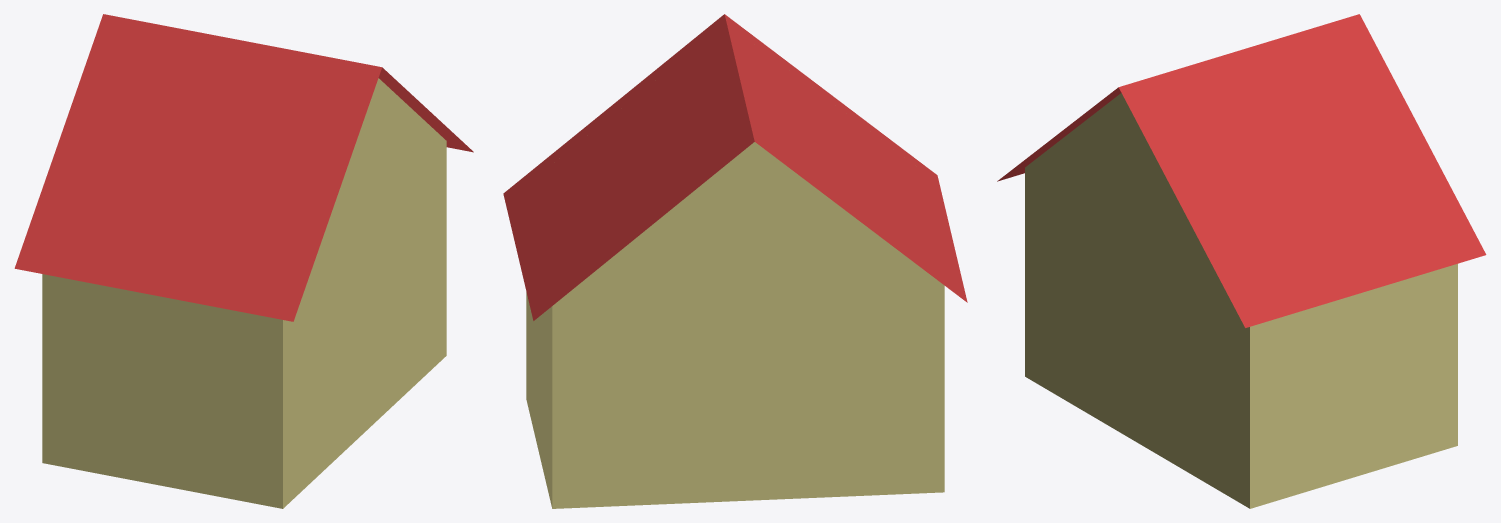
The picture shows the model from 3 angles, left to right: view 1: azimuth 30°, elevation 25°; view 2: azimuth 150°, elevation 25°; view 3: azimuth 270°, elevation 25°; orthographic projection. The views are drawn at different scales.
Parts seen in each view (by area): view 1: group_5, group_3, group_4; view 2: group_5, group_3, group_4; view 3: group_5, group_3, group_4.
Part boxes in pixels (bbox=[...]): group_5: bbox=[42, 78, 446, 508]; group_3: bbox=[14, 14, 473, 321]; group_4: bbox=[154, 67, 381, 321]; group_5: bbox=[526, 142, 944, 508]; group_3: bbox=[526, 14, 967, 320]; group_4: bbox=[503, 14, 937, 320]; group_5: bbox=[1025, 93, 1457, 508]; group_3: bbox=[997, 15, 1486, 313]; group_4: bbox=[999, 14, 1485, 327].
Bounding box in the file's own units: 19 × 17.91 × 14.49.
